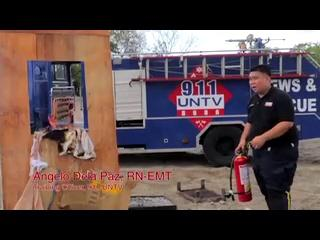Fire: (47, 110, 74, 128)
